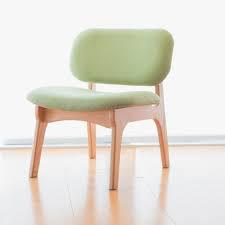chair: (18, 23, 186, 206)
